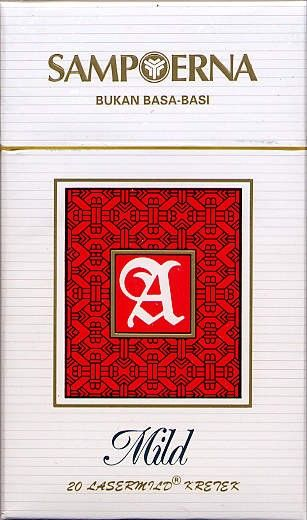A Mild: (6, 154, 304, 518)
